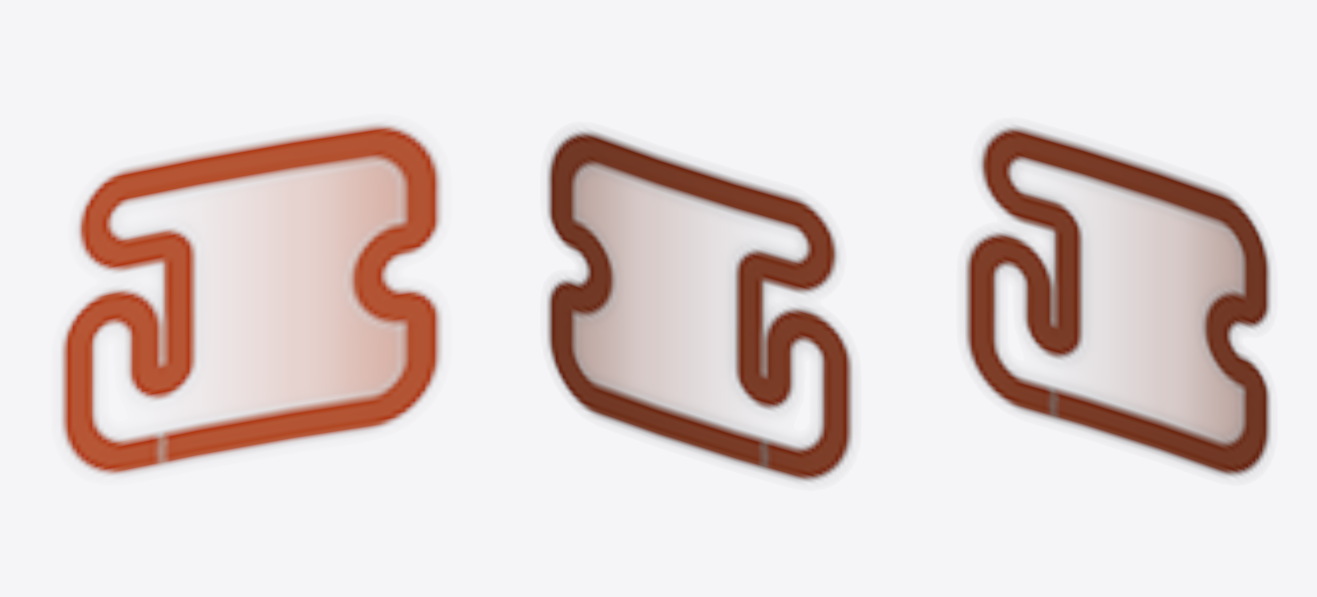
Rendered from minimap4.glb.
The picture shows the model from 3 angles, left to right: view 1: azimuth 30°, elevation 25°; view 2: azimuth 150°, elevation 25°; view 3: azimuth 330°, elevation 25°; orthographic projection. The views are drawn at different scales.
Parts seen in each view (by area): view 1: menu_2_map4; view 2: menu_2_map4; view 3: menu_2_map4.
Part boxes in pixels (x1,y1,x2,y2): menu_2_map4: (60, 122, 442, 477); menu_2_map4: (547, 129, 852, 482); menu_2_map4: (965, 125, 1270, 477).
Bounding box in the file's own units: 1.76 × 1.85 × 0.217.
1 material, 1 textured.
